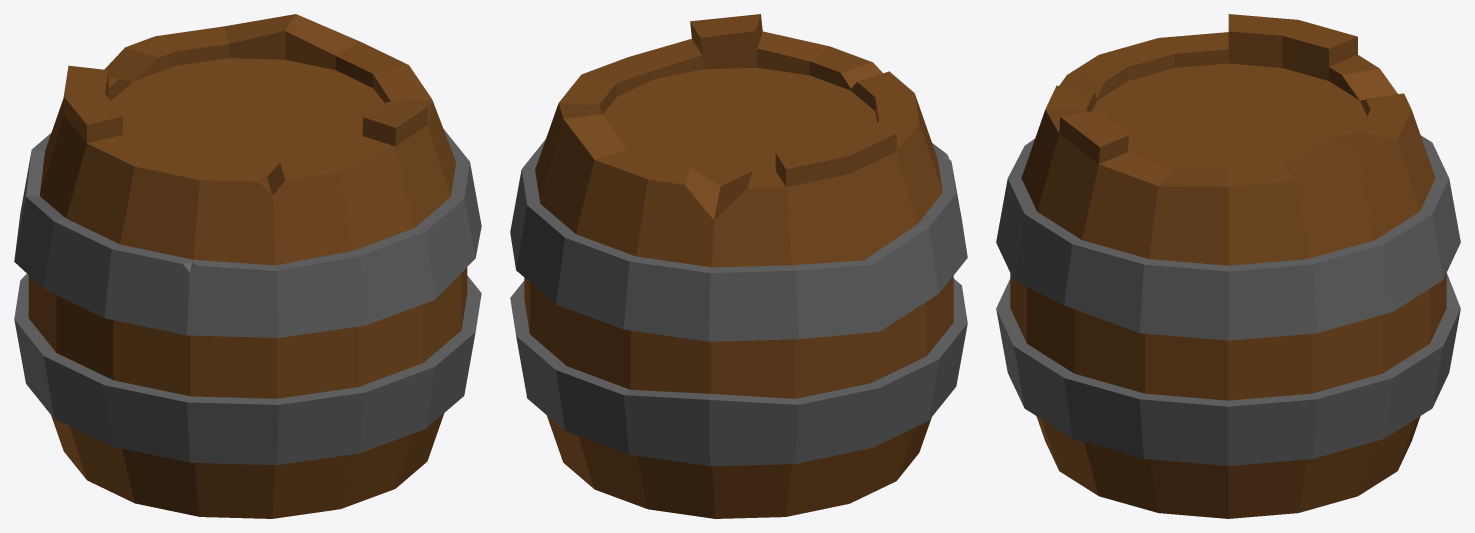
The model's file is Small_Barell_01.fbx.
3 renders of one model, left to right at view 1: azimuth 30°, elevation 25°; view 2: azimuth 150°, elevation 25°; view 3: azimuth 270°, elevation 25°, orthographic. The views are drawn at different scales.
Visible parts, largest first — view 1: Barell; view 2: Barell; view 3: Barell.
Boxes of the visible parts, bbox=[...] form: Barell: bbox=[14, 14, 481, 518]; Barell: bbox=[510, 14, 967, 518]; Barell: bbox=[996, 14, 1460, 518].
Bounding box in the file's own units: 254 × 214 × 254.
